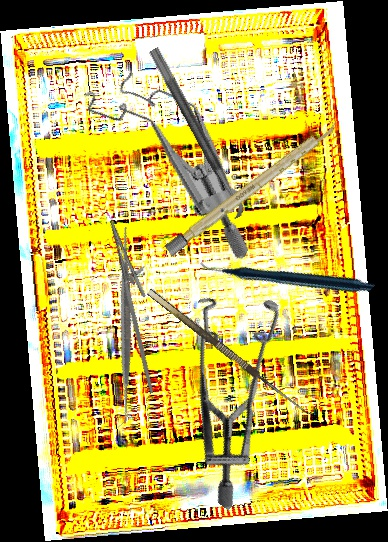Fixation Ring: (134, 46, 248, 226)
Handpiece: (198, 186, 377, 363)
Hook Surgical: (146, 279, 318, 420)
Needle Holder: (89, 217, 187, 394)
Scalpel Handle: (164, 118, 341, 257)
Spatula Surgical: (22, 220, 229, 429)
Speculum: (108, 265, 346, 511), (48, 56, 296, 263)
